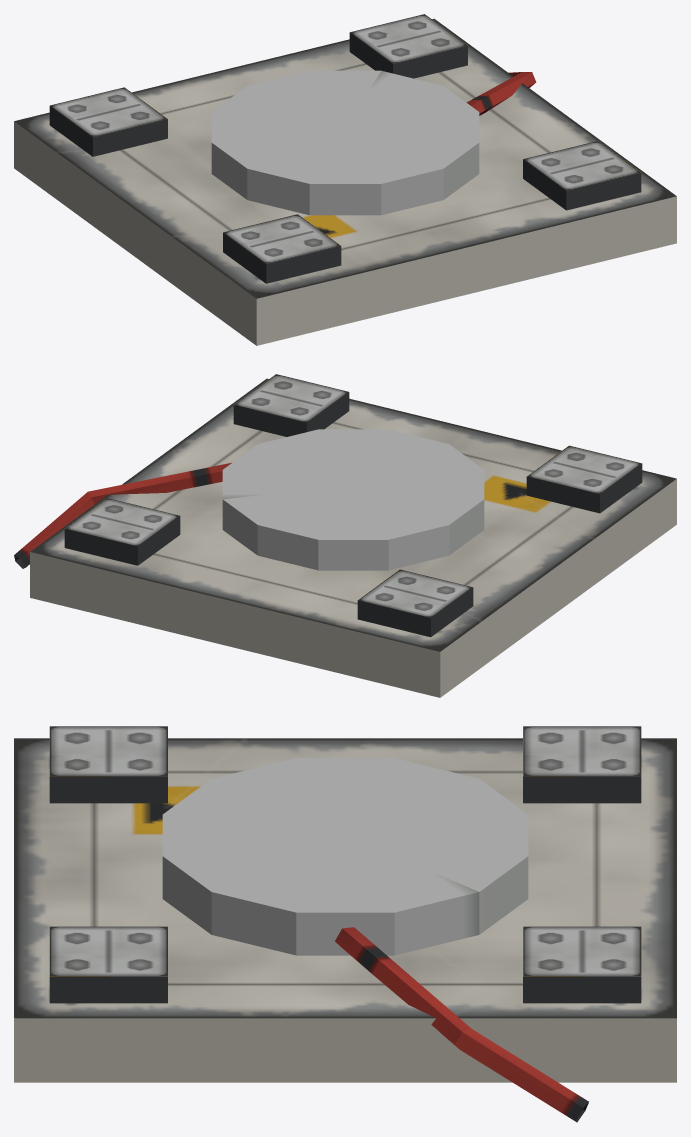
The model's file is part_pad.fbx.
3 renders of one model, top to bottom at view 1: azimuth 30°, elevation 25°; view 2: azimuth 150°, elevation 25°; view 3: azimuth 270°, elevation 25°, orthographic. The views are drawn at different scales.
Visible parts, largest first — view 1: part_pad; view 2: part_pad; view 3: part_pad.
Part boxes in pixels (box(x1,y1,x2,y2)): part_pad: box(14, 14, 676, 345); part_pad: box(14, 374, 676, 697); part_pad: box(14, 726, 676, 1122).
Size of the model in its own units: 0.6292 by 0.11 by 0.56.
1 material, 1 textured.
